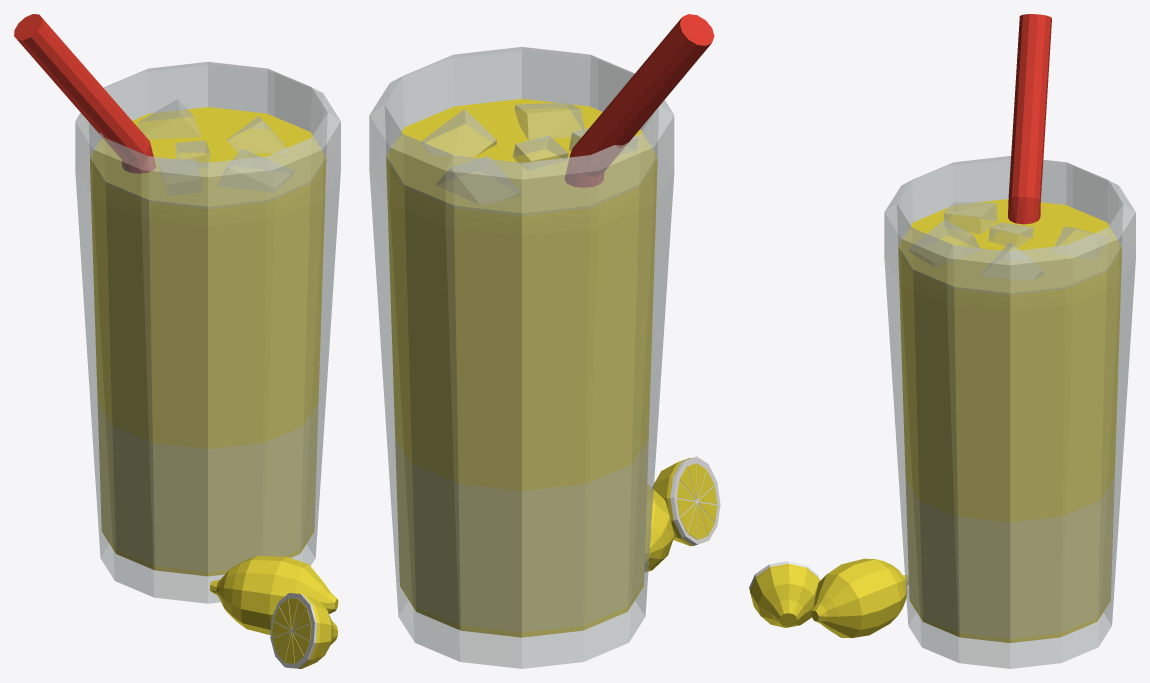
File: Lemonade.fbx
3 views of the same model, side by side, from view 1: azimuth 30°, elevation 25°; view 2: azimuth 150°, elevation 25°; view 3: azimuth 270°, elevation 25° (orthographic). The views are drawn at different scales.
Parts seen in each view (by area): view 1: mesh1992233719; view 2: mesh1992233719; view 3: mesh1992233719.
Boxes of the visible parts, x1,y1,x2,y2 form: mesh1992233719: (14,14,340,668); mesh1992233719: (369,14,720,668); mesh1992233719: (749,14,1135,668).
Bounding box in the file's own units: 2.44 × 4.65 × 2.95.
